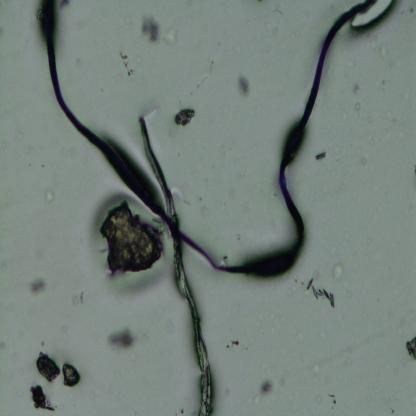Air bubble: (350, 0, 393, 32)
Background material: (100, 195, 166, 279), (35, 351, 61, 385), (117, 43, 139, 79), (28, 384, 56, 412), (109, 325, 136, 351), (141, 15, 161, 45), (61, 362, 82, 388), (233, 72, 251, 99), (174, 108, 197, 128), (352, 82, 366, 114), (70, 285, 89, 308), (258, 378, 274, 400), (325, 385, 338, 410), (162, 27, 178, 45), (405, 335, 416, 360), (31, 278, 44, 297), (42, 188, 55, 206), (225, 338, 241, 352), (314, 150, 327, 163)
Cellulose filter fibre: (137, 115, 215, 416)
Cotton: (42, 0, 376, 278)
Diatom: (306, 278, 336, 310)
